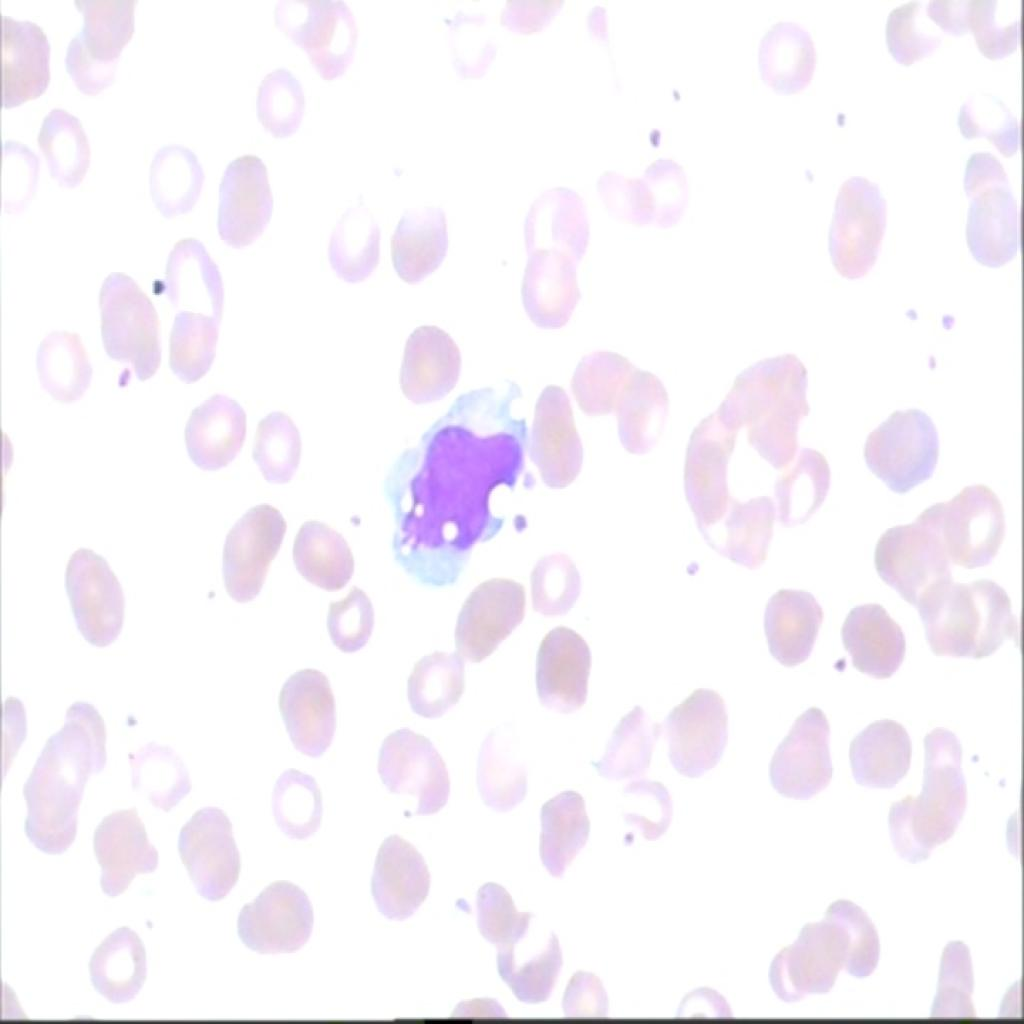Monosit: (381, 386, 542, 586)
Platelet: (142, 254, 181, 322), (630, 114, 670, 160), (334, 494, 373, 537), (889, 290, 921, 340), (677, 550, 714, 588), (914, 345, 948, 386), (101, 361, 137, 398), (930, 300, 962, 338), (829, 638, 852, 681), (666, 70, 688, 108), (826, 103, 852, 133), (512, 514, 530, 542)
